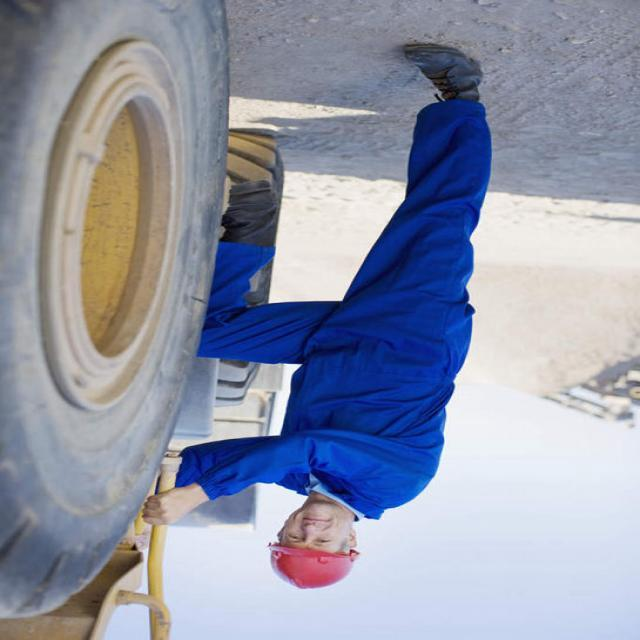safetyhelmet: (258, 484, 378, 597)
